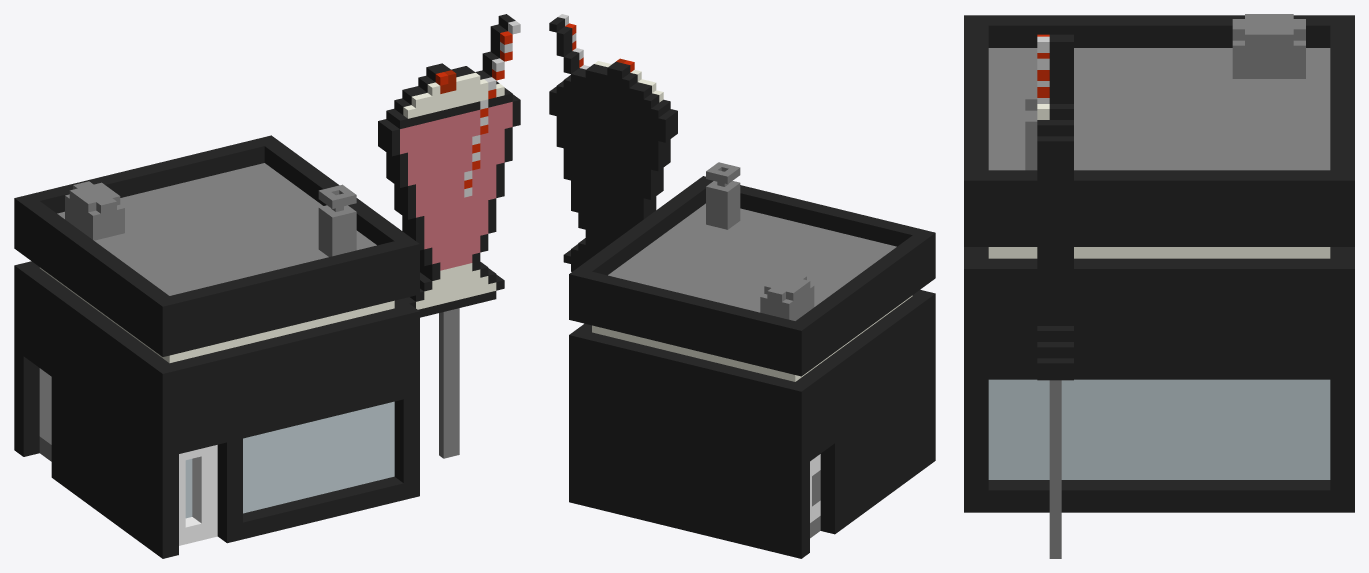
The model's file is milkshakes2.obj.
3 renders of one model, left to right at view 1: azimuth 30°, elevation 25°; view 2: azimuth 150°, elevation 25°; view 3: azimuth 270°, elevation 25°, orthographic. The views are drawn at different scales.
Parts seen in each view (by area): view 1: milkshakes2; view 2: milkshakes2; view 3: milkshakes2.
Boxes of the visible parts, left/top/right/bottom form: milkshakes2: left=14, top=14, right=520, bottom=558; milkshakes2: left=549, top=14, right=935, bottom=558; milkshakes2: left=964, top=14, right=1354, bottom=558.
Bounding box in the file's own units: 48 × 50 × 32.
1 material, 1 textured.
